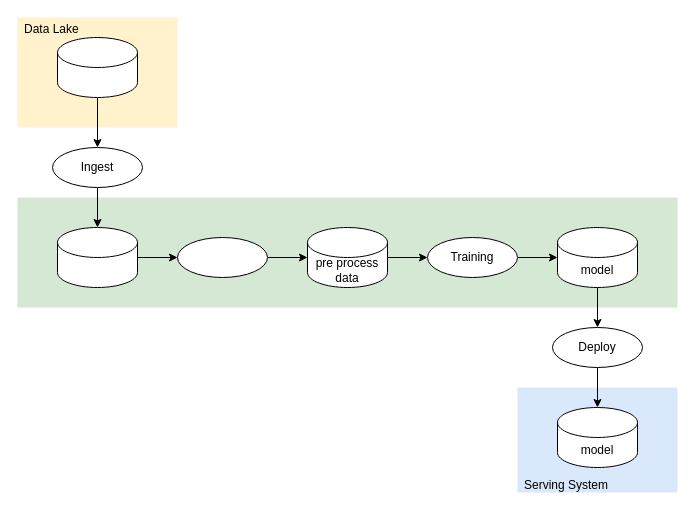
Some shapes in this 694 by 509 pixel diagram are drawn without their labels. Here are the shapes that lost their labels. From the top down, the box of each, then its label:
(56, 36, 138, 98): Data
(56, 226, 138, 288): raw data
(176, 236, 268, 278): Data Processing
(17, 197, 677, 307): Training System
